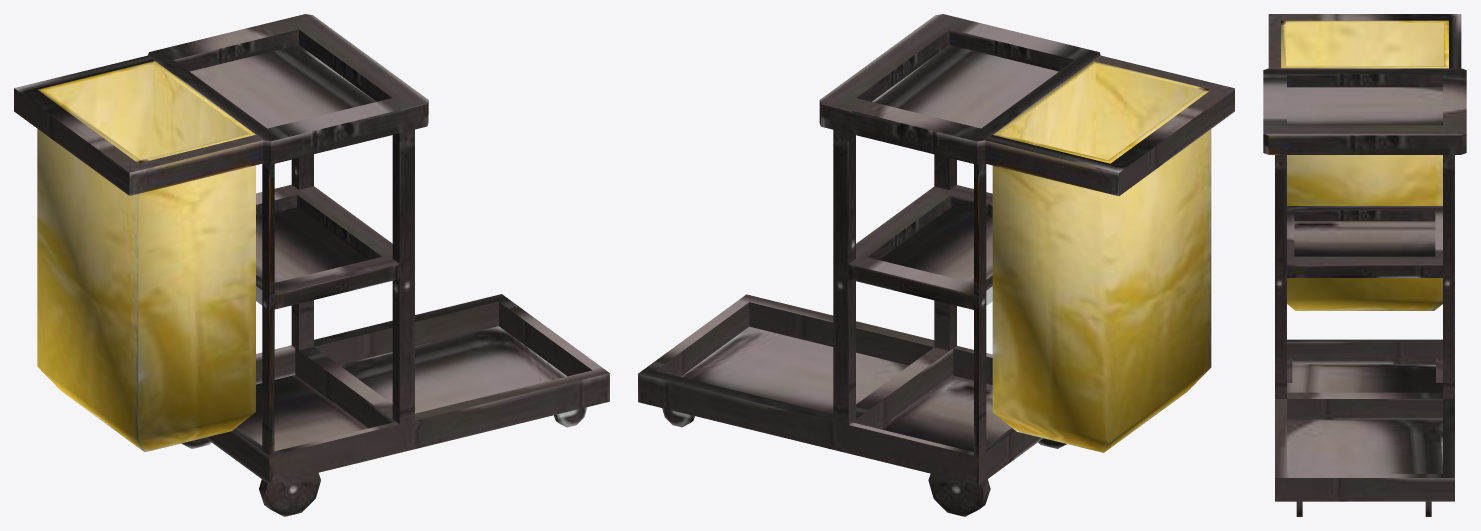
Rendered from janitor_cart.FBX.
3 views of the same model, side by side, from view 1: azimuth 30°, elevation 25°; view 2: azimuth 150°, elevation 25°; view 3: azimuth 270°, elevation 25° (orthographic). The views are drawn at different scales.
Visible parts, largest first — view 1: janitor_cart; view 2: janitor_cart; view 3: janitor_cart.
Part boxes in pixels (<box>): janitor_cart: <box>14,14,609,516</box>; janitor_cart: <box>638,14,1234,516</box>; janitor_cart: <box>1263,14,1466,516</box>.
Size of the model in its own units: 127 by 97.92 by 55.57.
